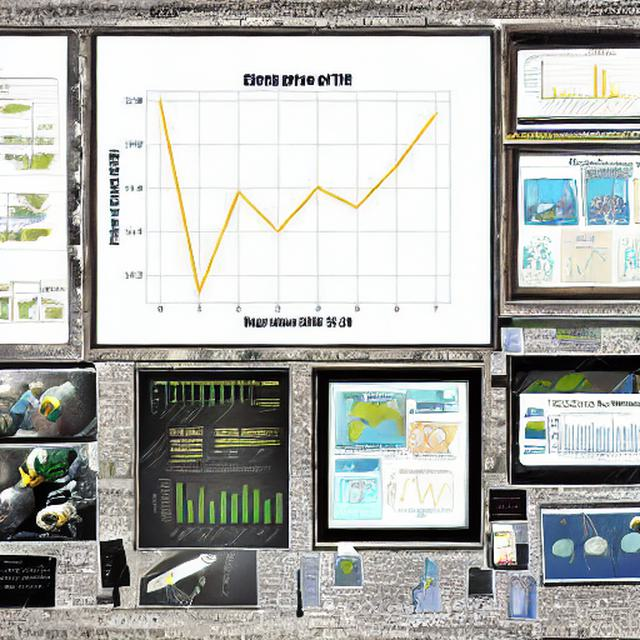Graph: (97, 48, 489, 342), (148, 465, 288, 548), (522, 51, 626, 113), (548, 409, 640, 462), (385, 463, 460, 519), (564, 244, 616, 283)
